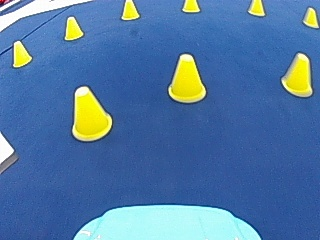cone: (70, 84, 111, 141), (168, 52, 206, 102), (280, 51, 313, 96), (11, 40, 31, 66), (63, 15, 83, 40), (120, 0, 139, 19), (302, 6, 318, 28), (247, 0, 265, 16), (182, 0, 199, 12)
